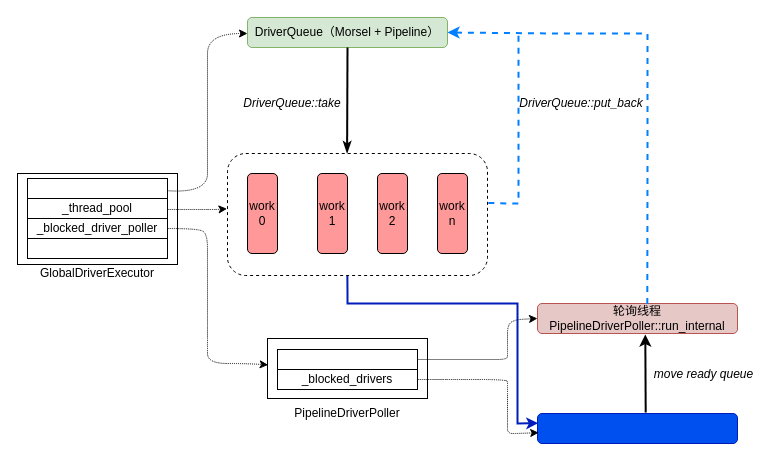
The diagram is 778 pixels wide and 461 high, and some of its shapes have lost their labels. The centre of each missing label's shape, as x and y in pixels:
"_driver_queue" goes at pixel 97 188.
"_exec_state_reporter" goes at pixel 97 248.
"_polling_thread" goes at pixel 347 359.
"阻塞队列" goes at pixel 637 428.
